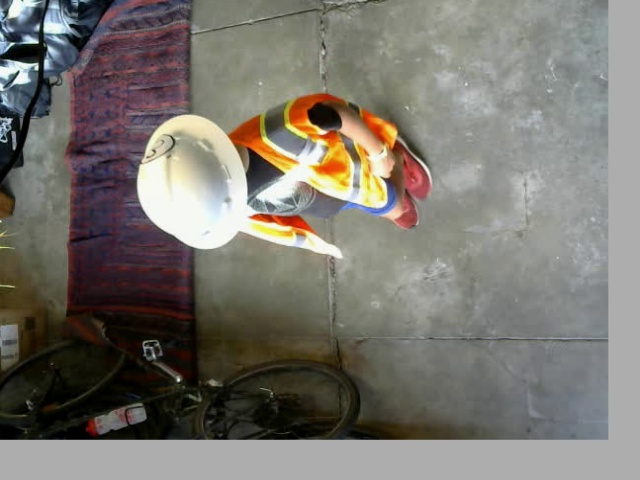three: (137, 131, 175, 163)
